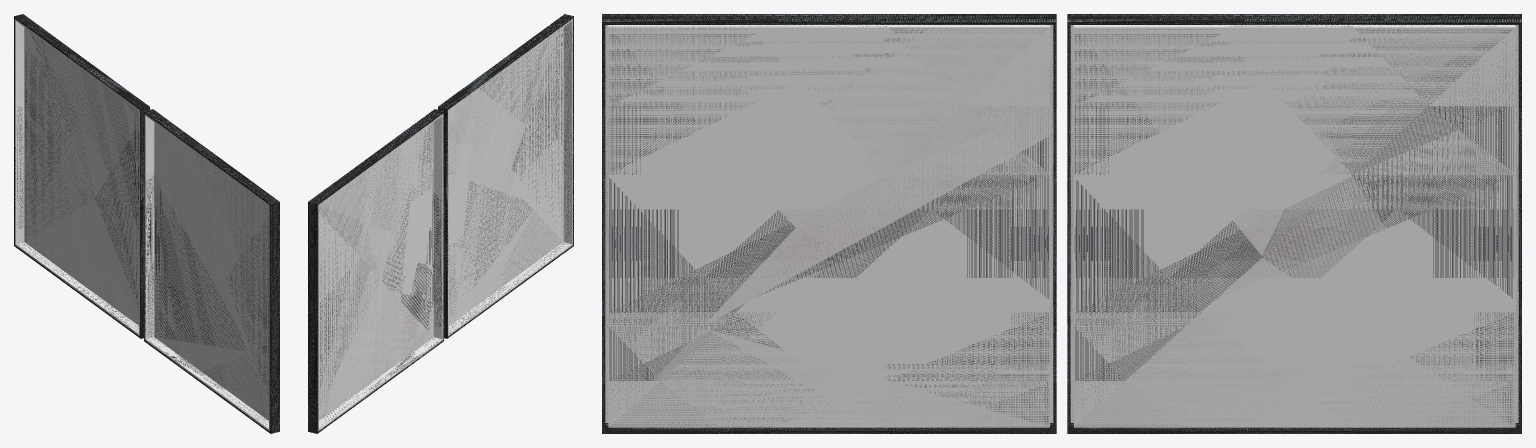
The model's file is art13.dae.
The picture shows the model from 3 angles, left to right: view 1: azimuth 30°, elevation 25°; view 2: azimuth 150°, elevation 25°; view 3: azimuth 270°, elevation 25°; orthographic projection. The views are drawn at different scales.
Parts seen in each view (by area): view 1: group_0 (×4), group_1 (×5); view 2: group_1 (×5), group_0 (×4); view 3: group_1 (×5), group_0 (×4).
Part boxes in pixels (box(x1,y1,x2,y2)): group_0 (×4): box(144, 109, 279, 433); group_1 (×5): box(14, 14, 149, 338); group_1 (×5): box(308, 109, 443, 433); group_0 (×4): box(438, 14, 573, 338); group_1 (×5): box(1067, 14, 1521, 433); group_0 (×4): box(602, 14, 1056, 433).
Size of the model in its own units: 1.18 by 56.57 by 27.95.
5 materials, 2 textured.
